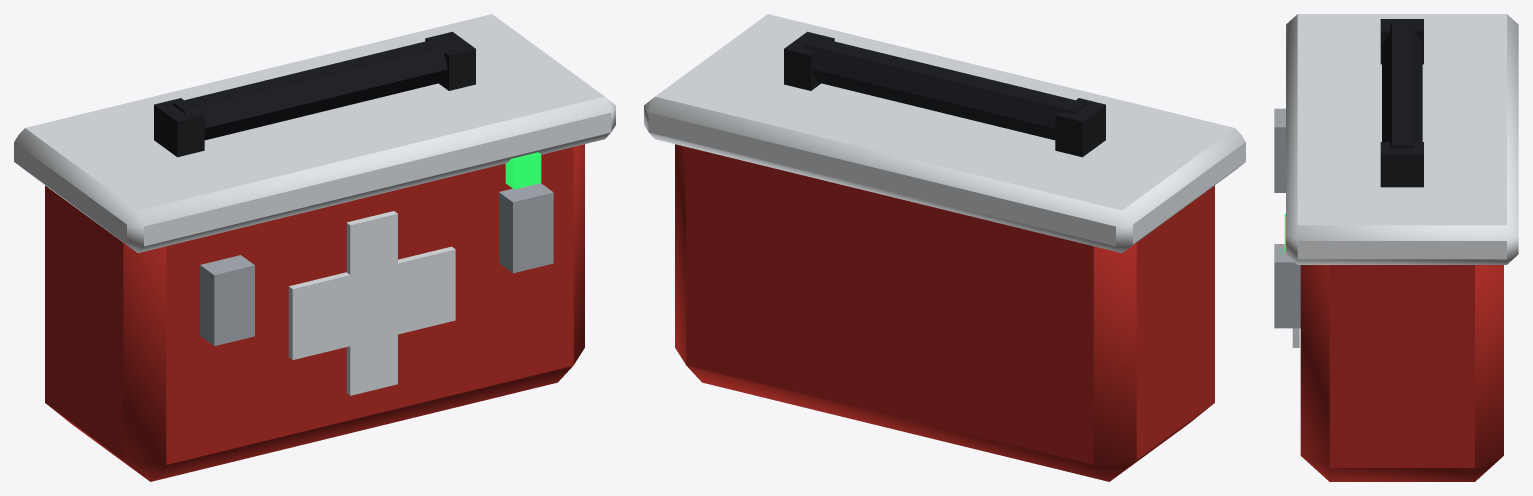
Rendered from medtool_med_kit_case.glb.
3 views of the same model, side by side, from view 1: azimuth 30°, elevation 25°; view 2: azimuth 150°, elevation 25°; view 3: azimuth 270°, elevation 25° (orthographic). The views are drawn at different scales.
Visible parts, largest first — view 1: medtool_med_kit_case; view 2: medtool_med_kit_case; view 3: medtool_med_kit_case.
Part boxes in pixels (x1=…): medtool_med_kit_case: x1=14, y1=14, x2=615, y2=481; medtool_med_kit_case: x1=644, y1=14, x2=1245, y2=481; medtool_med_kit_case: x1=1274, y1=14, x2=1518, y2=481.
Size of the model in its own units: 0.36 by 0.2321 by 0.168.
